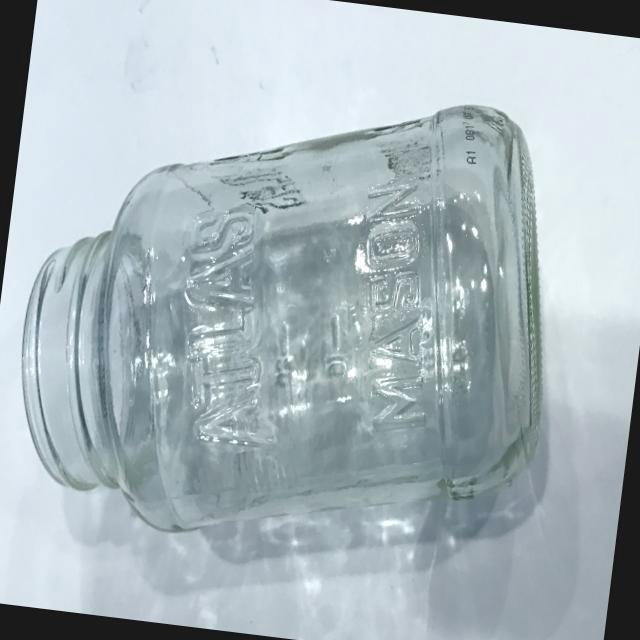glass: (0, 31, 588, 592)
